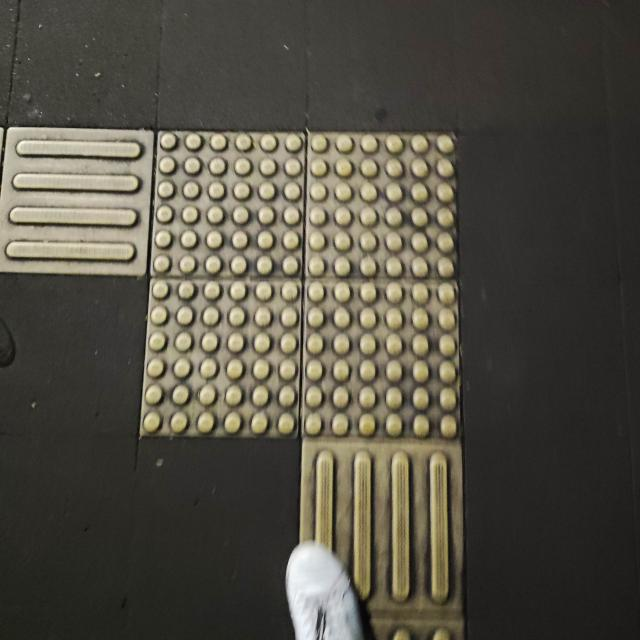kiri: (0, 74, 496, 536)
